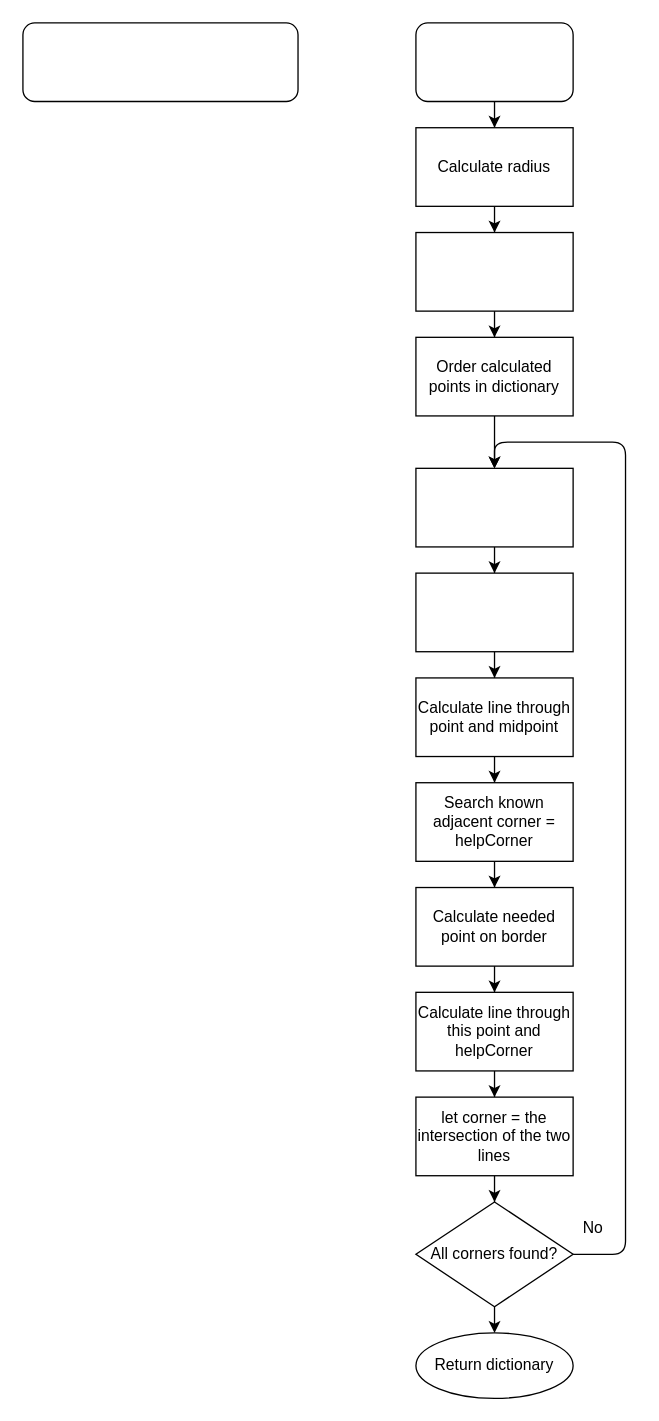
The diagram is 659 pixels wide and 1421 high, and some of its shapes have lost their labels. The shapes that lost their labels are listed below. From the top down, each one's box as (x1, y1, x2, y2) in pixels, then its label:
(22, 22, 298, 102): Overview corner detection
(415, 22, 573, 102): Corner dictionary
(415, 231, 573, 311): Calculate points on diagonals around midpoint
(415, 467, 573, 547): Search a missing corner
(415, 572, 573, 652): Select according point on diagonal from dictionary
